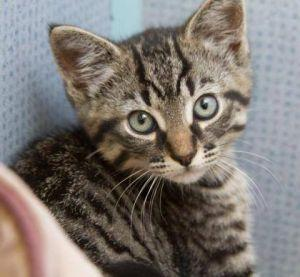bengal: (32, 1, 270, 198)
